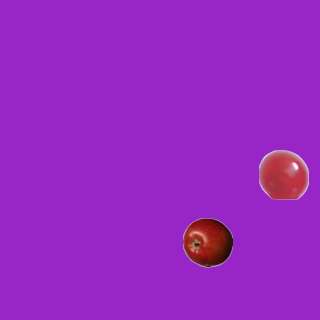Apple Braeburn: (182, 217, 232, 267)
Redcurrant: (258, 149, 308, 199)
